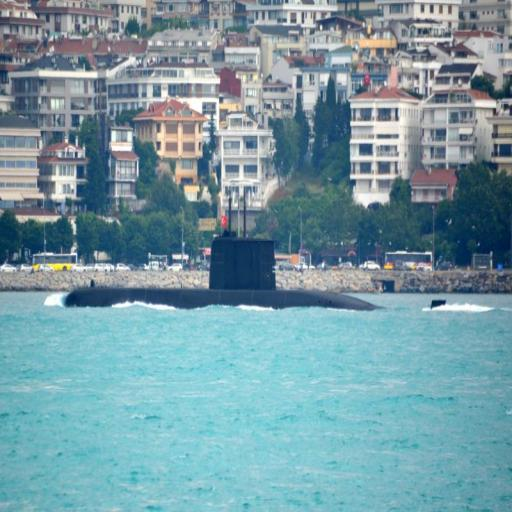submarine: (67, 197, 454, 312)
